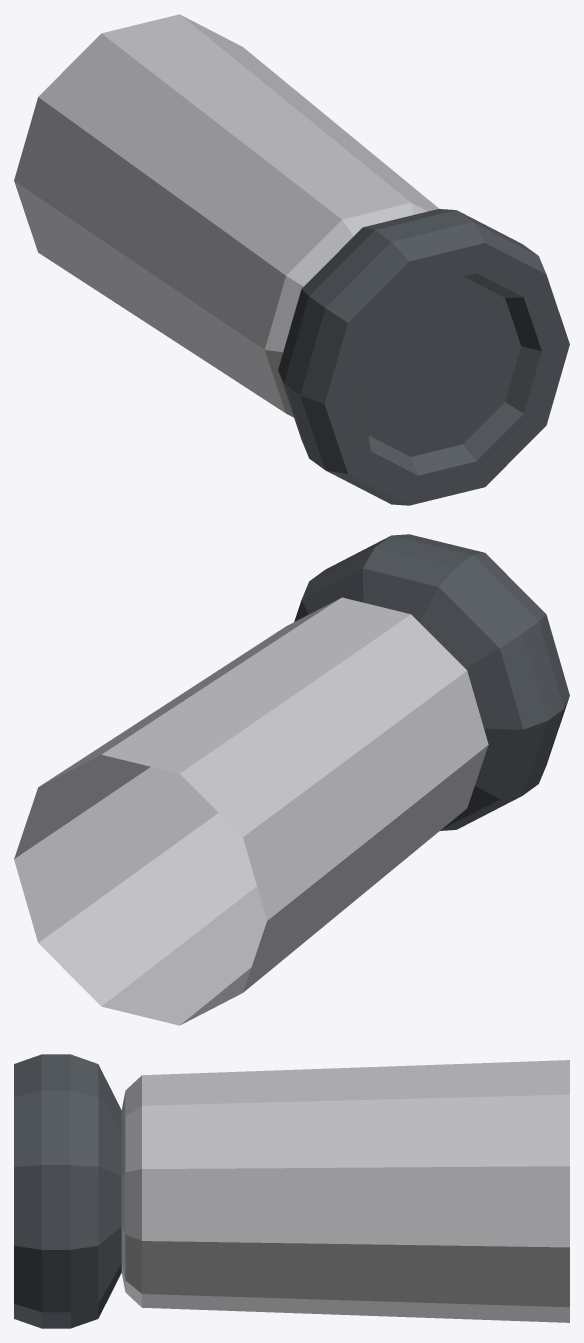
The model's file is Personal_Vehicle_01_Head_Light_Big.fbx.
3 renders of one model, top to bottom at view 1: azimuth 30°, elevation 25°; view 2: azimuth 150°, elevation 25°; view 3: azimuth 270°, elevation 25°, orthographic. The views are drawn at different scales.
Visible parts, largest first — view 1: Personal_Vehicle_01_Head_Light_Big; view 2: Personal_Vehicle_01_Head_Light_Big; view 3: Personal_Vehicle_01_Head_Light_Big.
Part boxes in pixels (box(x1,y1,x2,y2)): Personal_Vehicle_01_Head_Light_Big: box(14, 14, 569, 505); Personal_Vehicle_01_Head_Light_Big: box(14, 534, 569, 1025); Personal_Vehicle_01_Head_Light_Big: box(14, 1054, 569, 1328).
Bounding box in the file's own units: 32.7 × 31.1 × 65.84.
2 materials, 2 textured.
